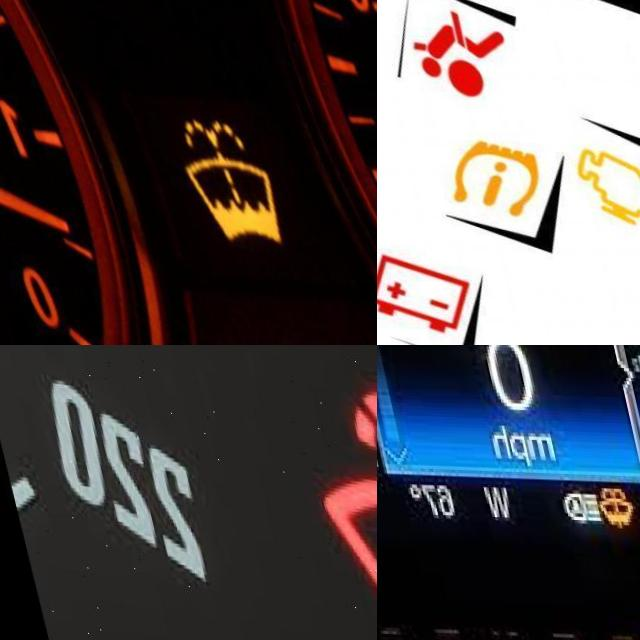Washer Fluid: (163, 116, 266, 241), (575, 481, 621, 527)
